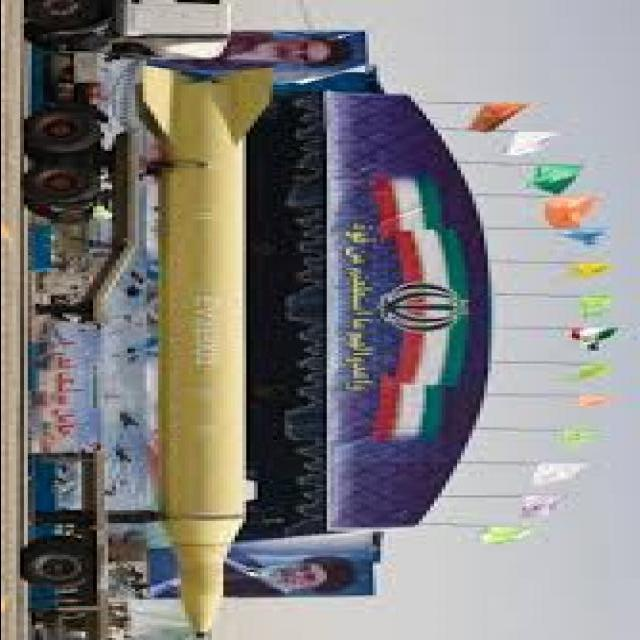missile: (122, 46, 264, 640)
